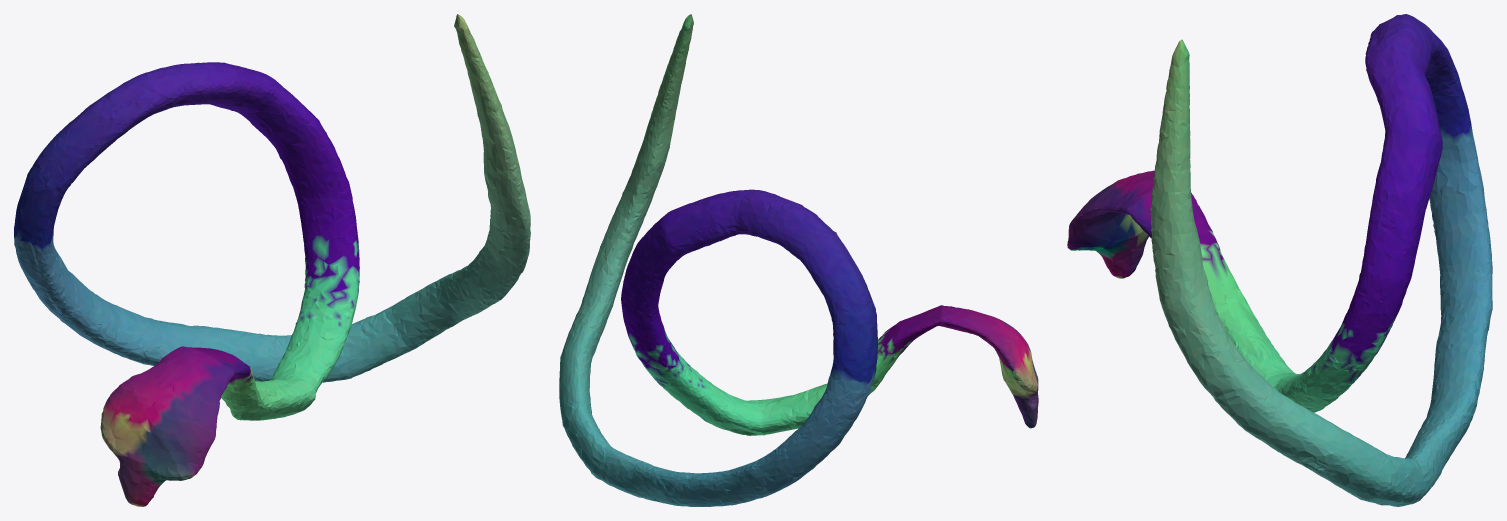
The model's file is snake-17.off.obj.
The picture shows the model from 3 angles, left to right: view 1: azimuth 30°, elevation 25°; view 2: azimuth 150°, elevation 25°; view 3: azimuth 270°, elevation 25°; orthographic projection. The views are drawn at different scales.
Size of the model in its own units: 1.24 by 1.15 by 0.9385.
